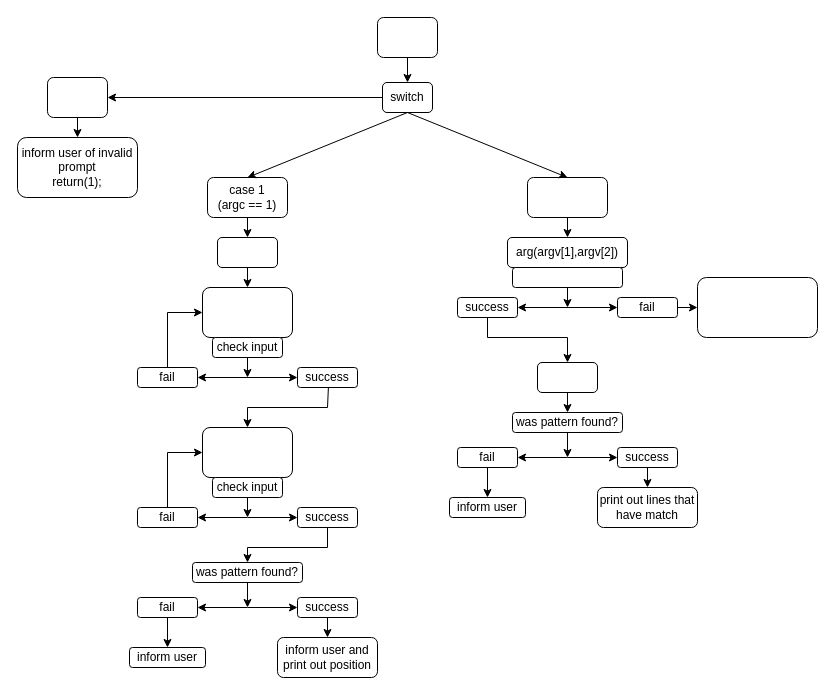
Image size: 835x695. Some labels were removed from this diagram. Each missing label, with the box of its shape:
case 3 (argc == 3): (526, 176, 608, 218)
check arguments: (512, 266, 622, 288)
default: (46, 76, 108, 118)
inform user of invalid arguments return(1);: (696, 276, 818, 338)
Main: (376, 16, 438, 58)
noarg();: (216, 236, 278, 268)
query user for search pattern: (202, 426, 292, 478)
query user for search string: (202, 286, 292, 338)
scan file: (536, 362, 598, 392)
